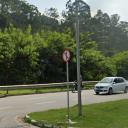NoSeguir: (62, 50, 71, 62)
